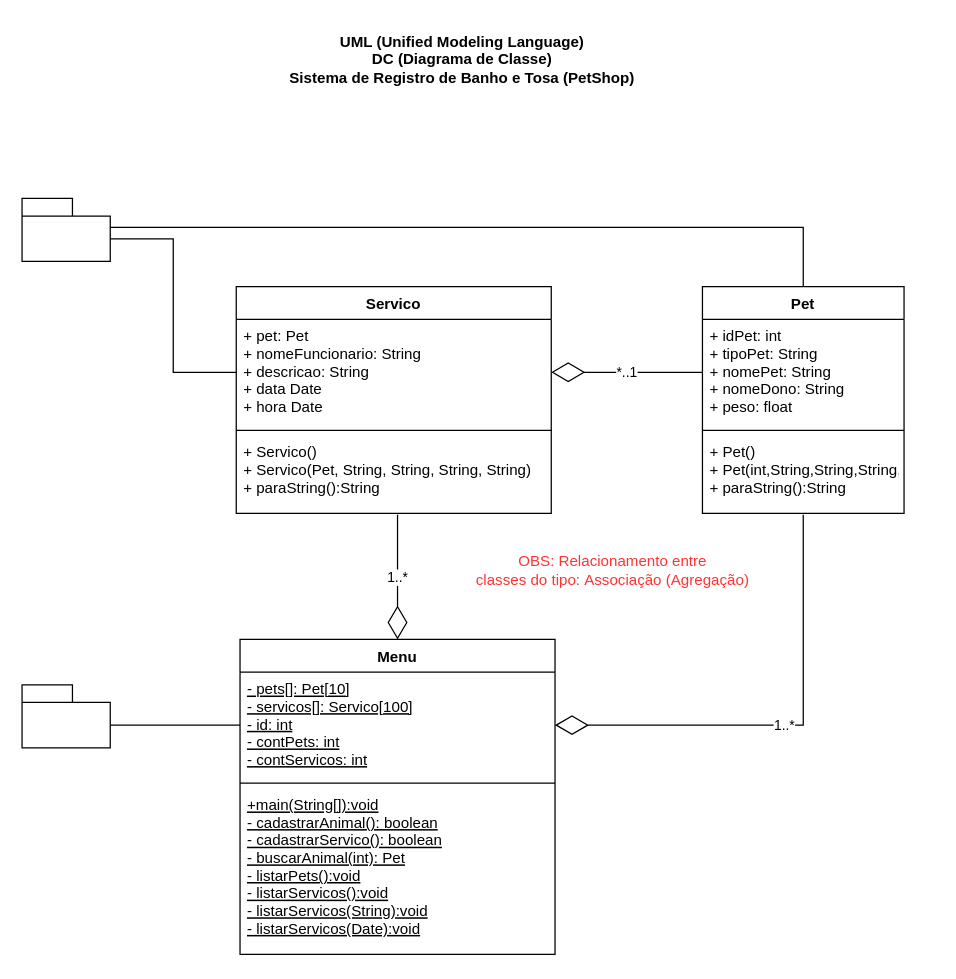
The diagram is 956 pixels wide and 979 high, and some of its shapes have lost their labels. Here are the shapes that lost their labels. From the top down, the centre of each, then its label:
pixel 65 229: modelo
pixel 65 716: visao
